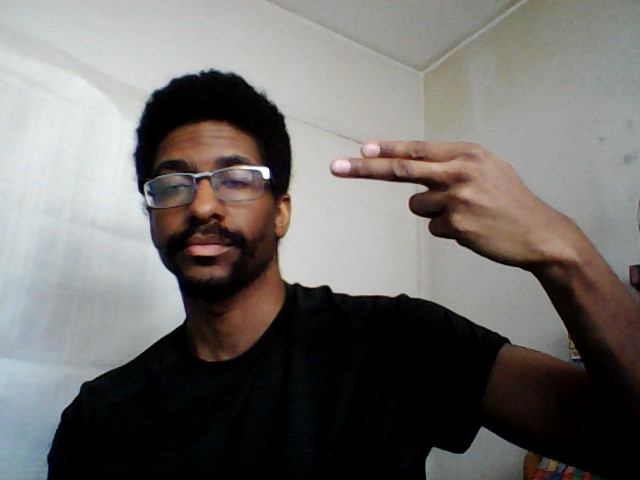h: (328, 134, 581, 277)
